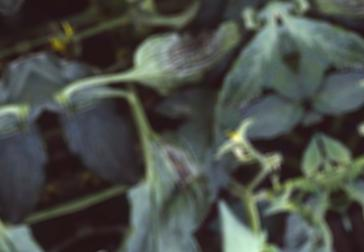Tomato leaf late blight: (74, 114, 249, 252), (108, 8, 257, 111), (198, 14, 304, 119)
